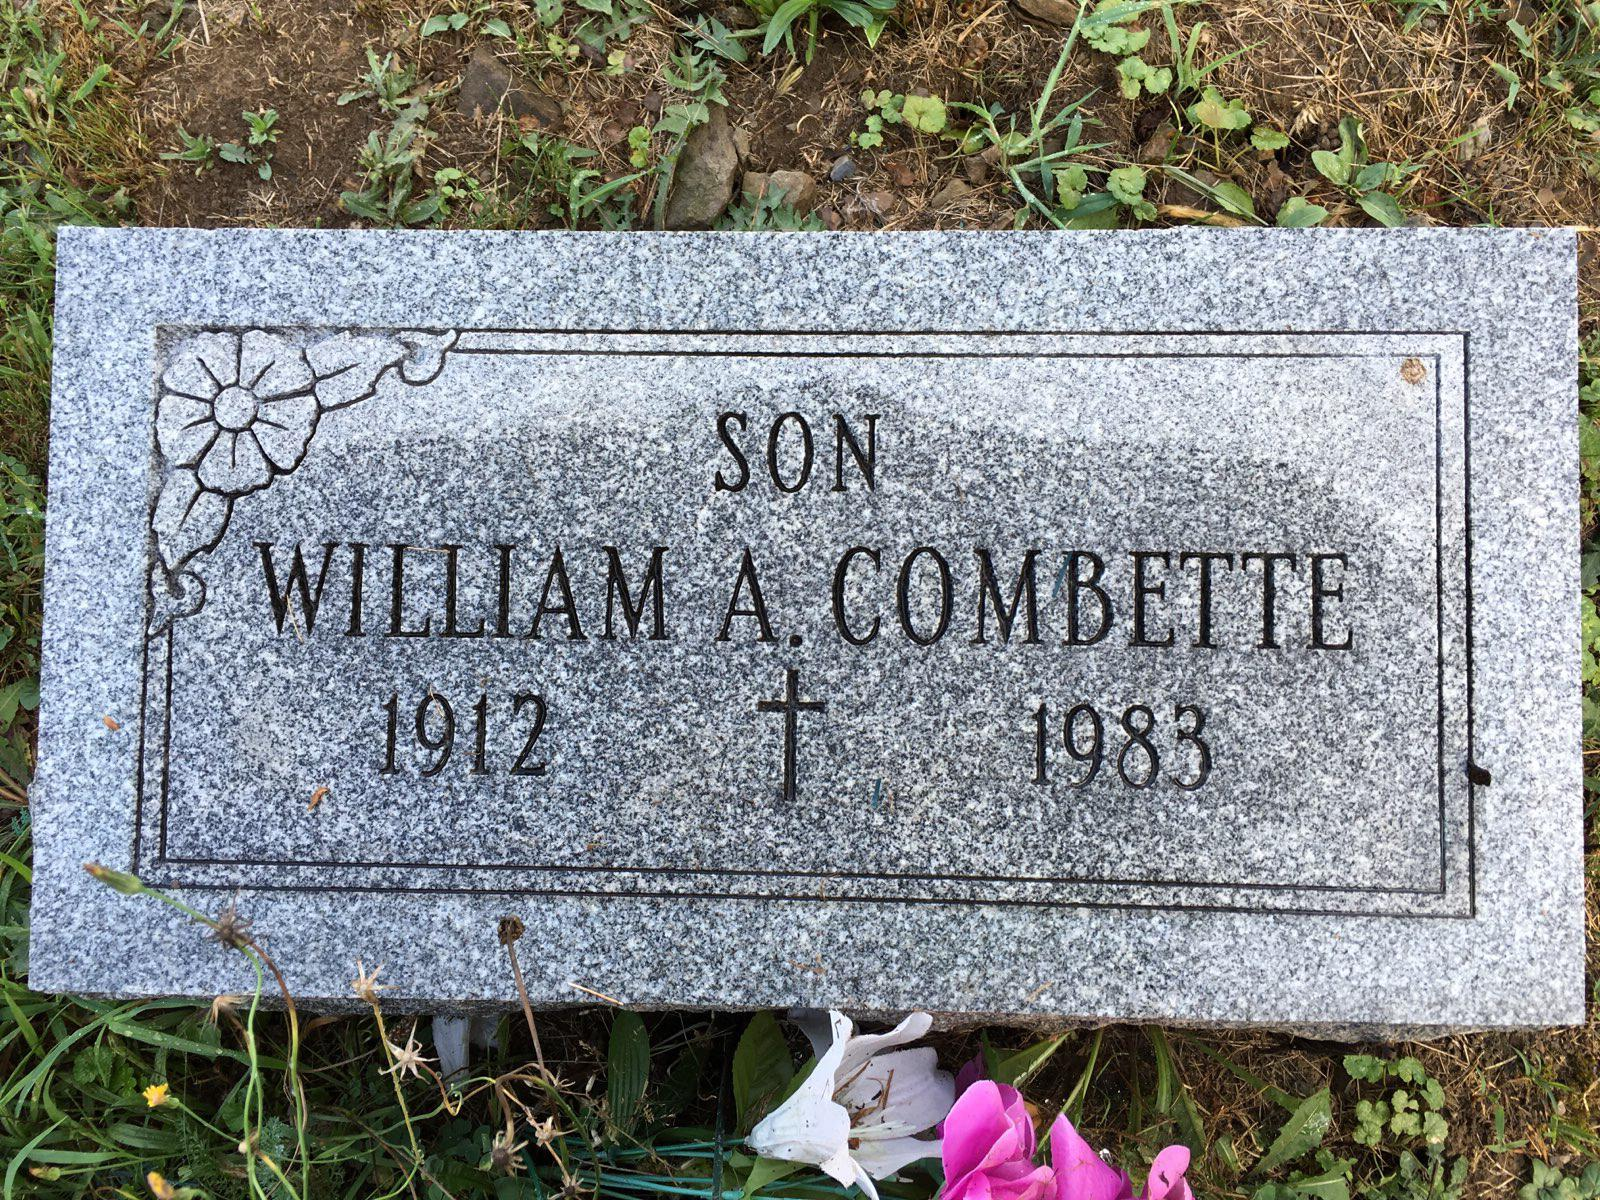flat: (26, 217, 1587, 1030)
